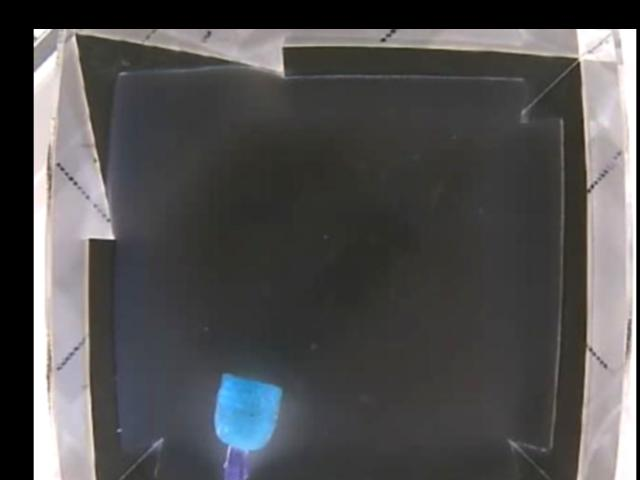Carrot: (206, 371, 282, 480)
